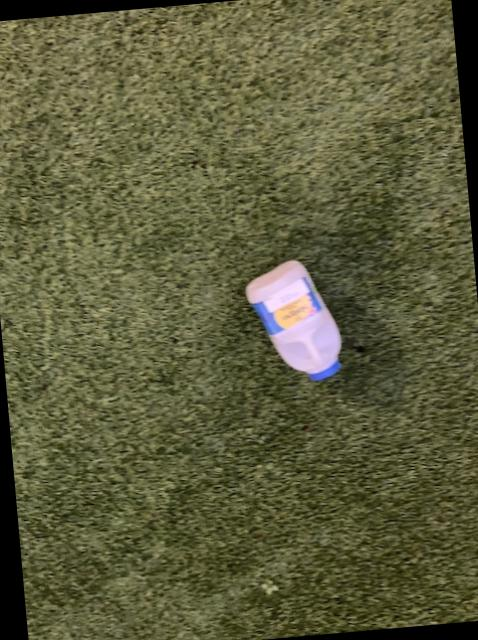plastic: (244, 261, 339, 380)
